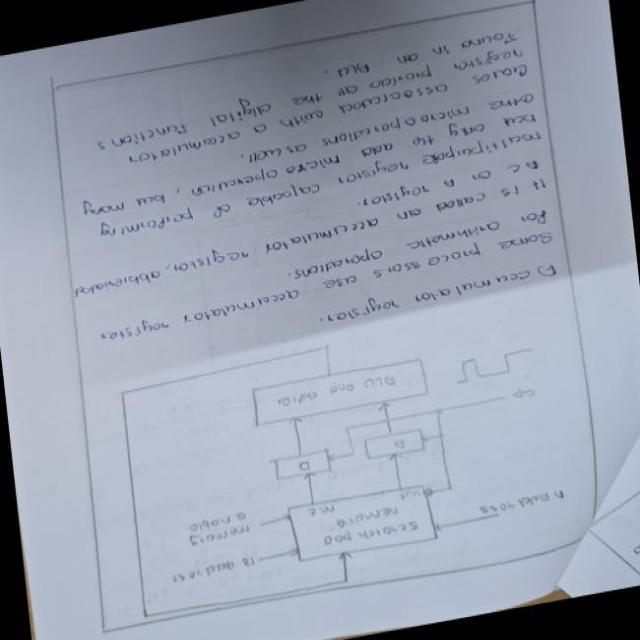Figure Detection - v3 Dataset Version2: (102, 293, 578, 630)
